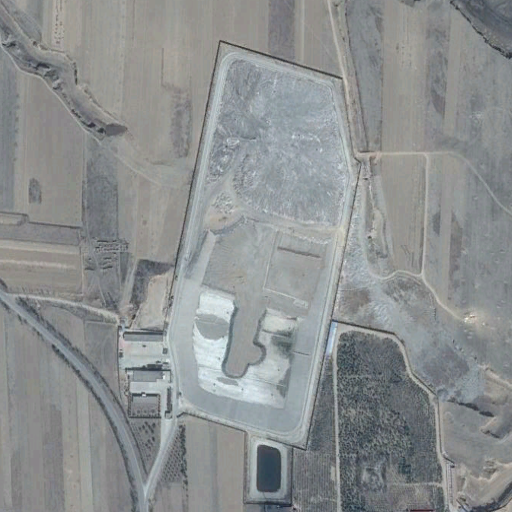lf: (169, 51, 356, 441)
